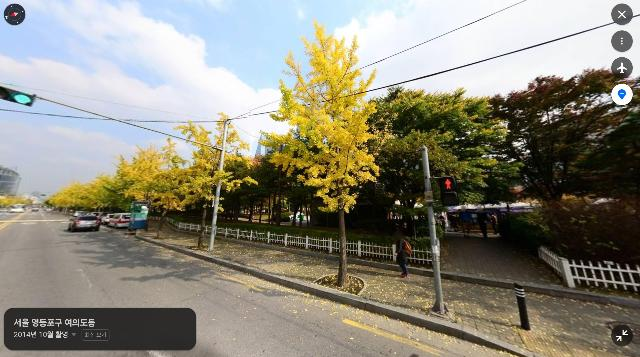ginkgo: (260, 17, 383, 288), (170, 111, 259, 248), (107, 137, 191, 239), (76, 167, 130, 213), (48, 180, 101, 214)
other: (481, 66, 640, 262), (382, 74, 485, 249)
